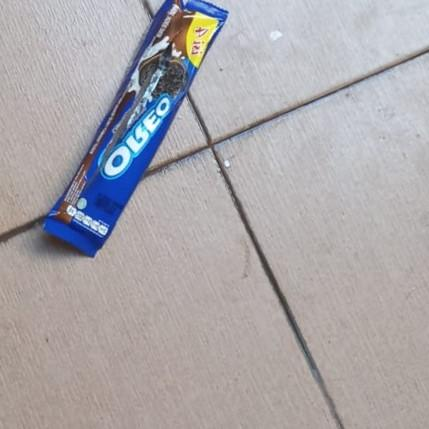Plastik: (42, 0, 229, 260)
